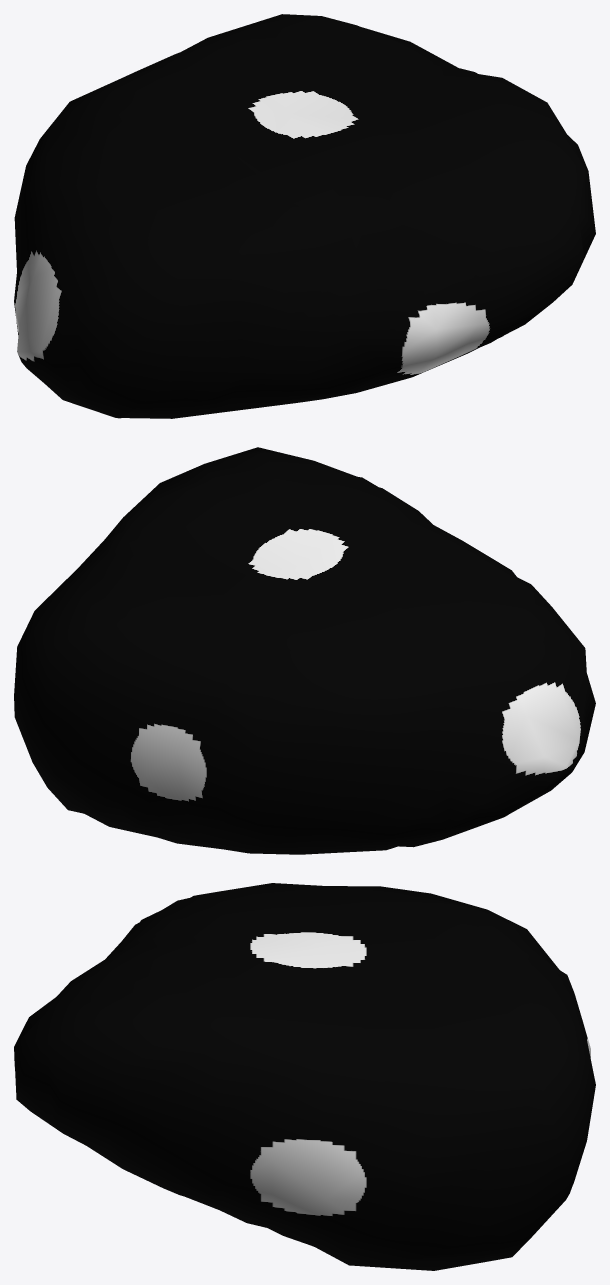
The model's file is rock01.fbx.
The picture shows the model from 3 angles, top to bottom: view 1: azimuth 30°, elevation 25°; view 2: azimuth 150°, elevation 25°; view 3: azimuth 270°, elevation 25°; orthographic projection. The views are drawn at different scales.
Visible parts, largest first — view 1: ROCK2; view 2: ROCK2; view 3: ROCK2.
Boxes of the visible parts, x1,y1,x2,y2 form: ROCK2: (14,14,595,418); ROCK2: (14,447,595,854); ROCK2: (14,883,595,1270).
Bounding box in the file's own units: 3.38 × 1.73 × 3.33.
